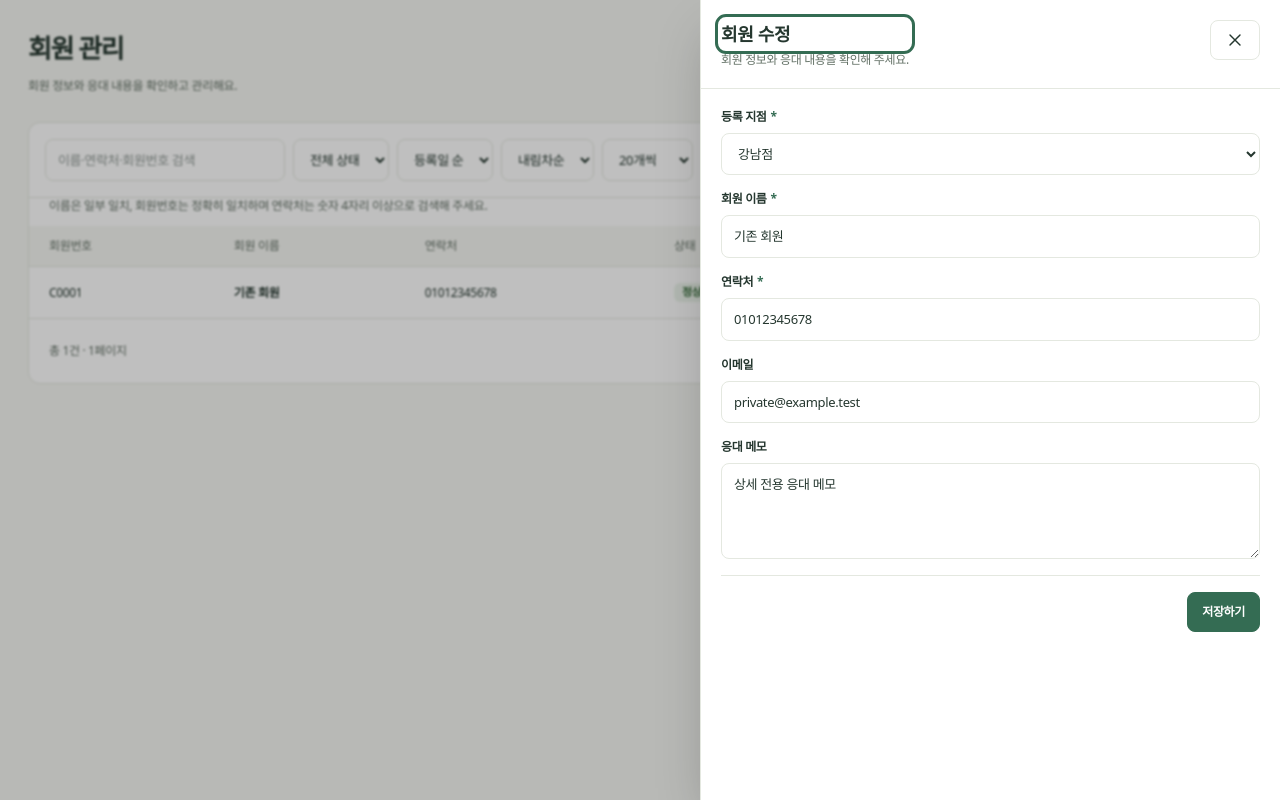
Test case: preserves 422 inputs and points to the rejected field
Step 1. Replace the text in the field labelled "회원 이름" with "입력 유지" → x=990, y=236, box [721,215,1260,258]
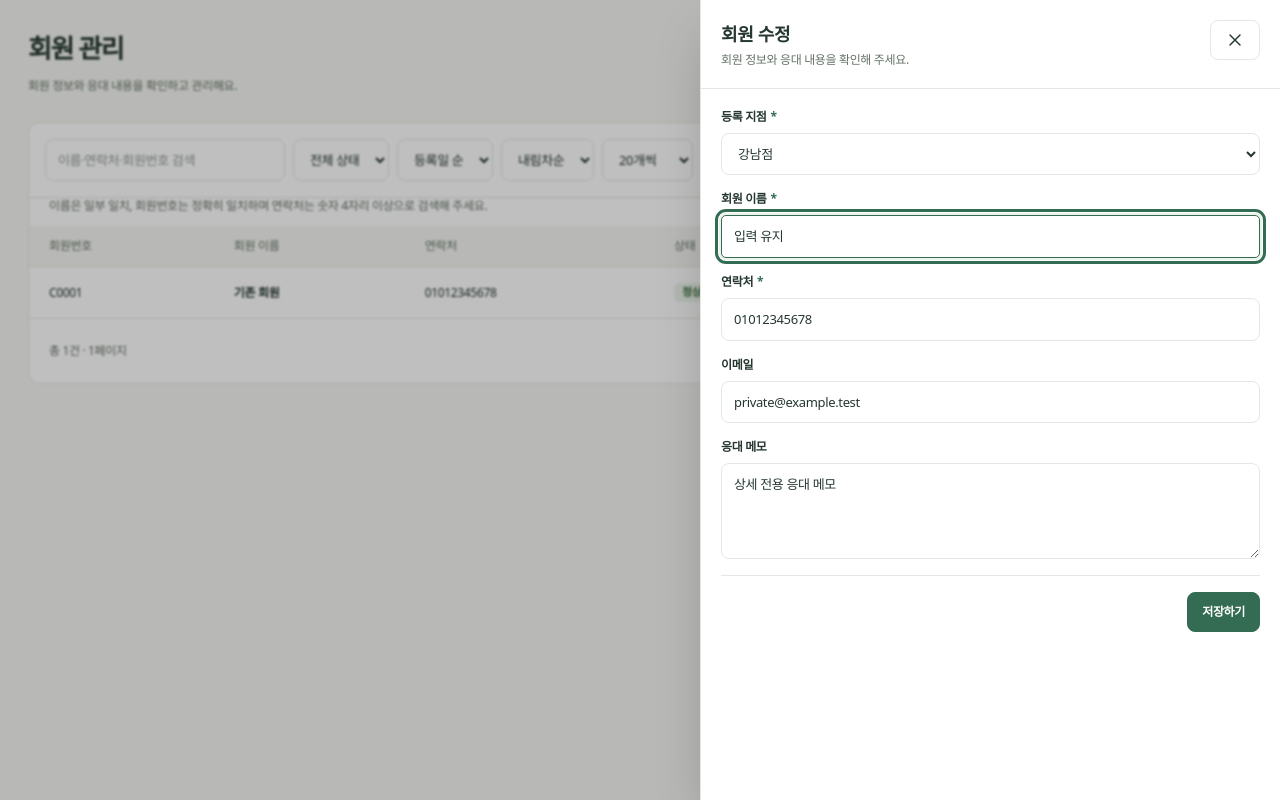
Step 2. Click the button "저장하기" → x=1224, y=612, box [1187,592,1260,632]
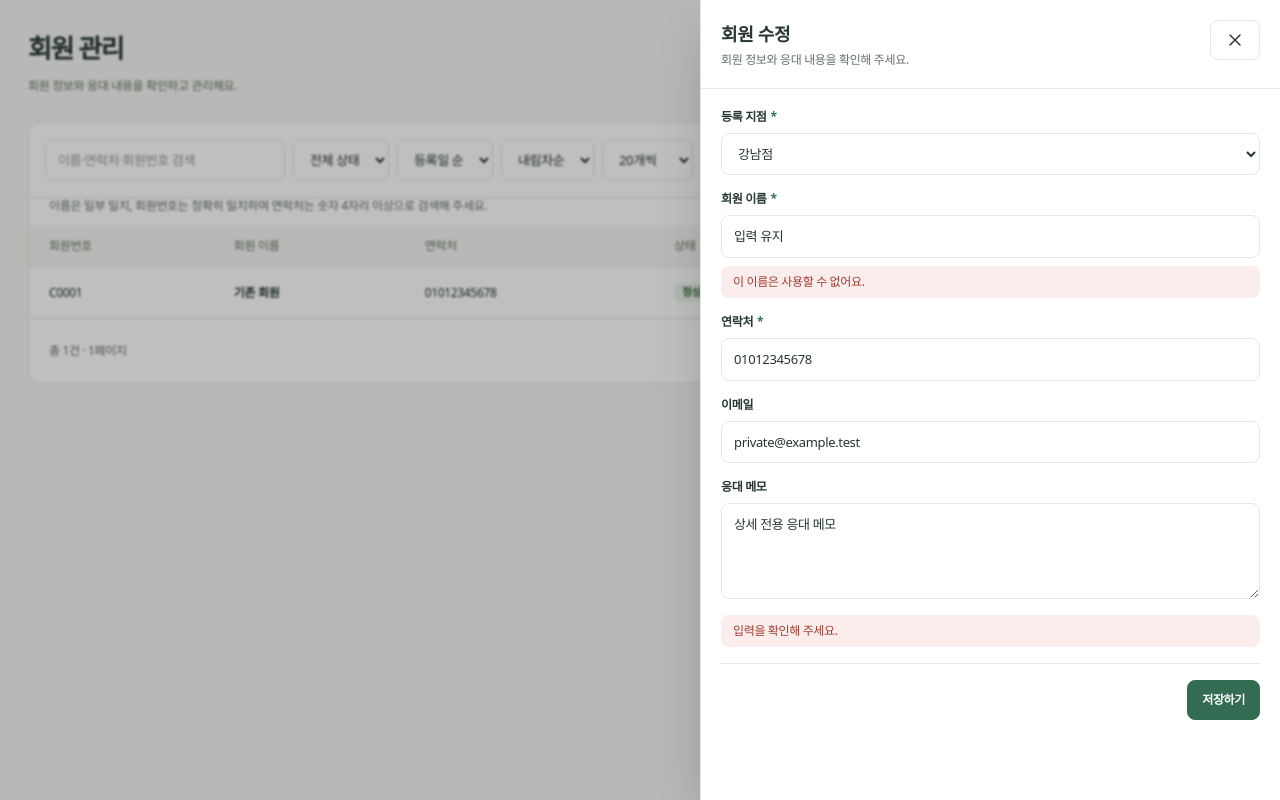
Expected: the text "이 이름은 사용할 수 없어요." is shown, [721,266,1260,298]
